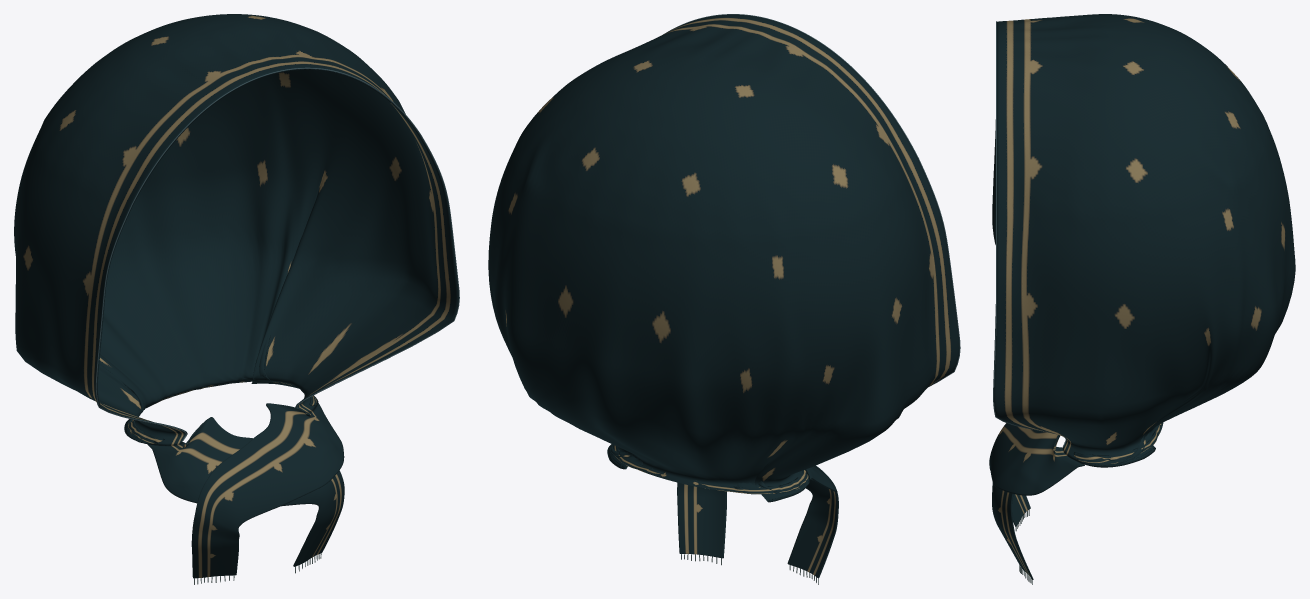
File: Feminine-tank-pashmina236-headgear.glb
3 views of the same model, side by side, from view 1: azimuth 30°, elevation 25°; view 2: azimuth 150°, elevation 25°; view 3: azimuth 270°, elevation 25° (orthographic). The views are drawn at different scales.
Visible parts, largest first — view 1: 226 headgear / Headwear / continuous woven pashmina236, 226 headgear / Headwear / face edge236; view 2: 226 headgear / Headwear / continuous woven pashmina236, 226 headgear / Headwear / face edge236; view 3: 226 headgear / Headwear / continuous woven pashmina236, 226 headgear / Headwear / face edge236.
Part boxes in pixels (<box>): 226 headgear / Headwear / continuous woven pashmina236: <box>14,14,458,578</box>; 226 headgear / Headwear / face edge236: <box>95,67,459,441</box>; 226 headgear / Headwear / continuous woven pashmina236: <box>488,14,959,578</box>; 226 headgear / Headwear / face edge236: <box>663,14,960,386</box>; 226 headgear / Headwear / continuous woven pashmina236: <box>989,14,1295,579</box>; 226 headgear / Headwear / face edge236: <box>993,21,1066,446</box>.
Size of the model in its own units: 1.02 by 1.35 by 0.7191.
Materials: 3 (1 with a texture image).
